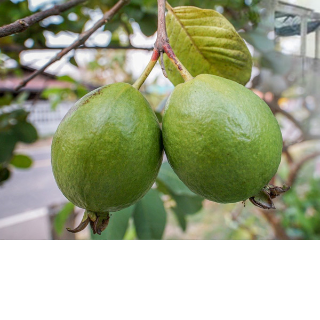oi: (142, 68, 286, 218), (45, 74, 170, 219)
